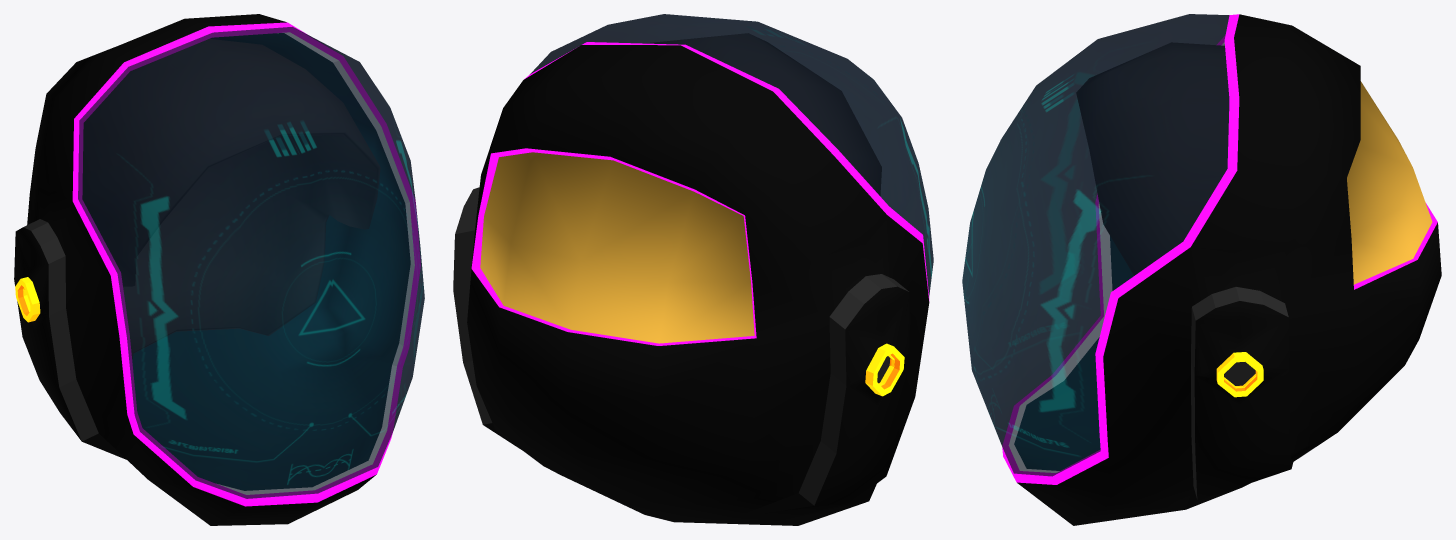
Rendered from M_Helmet_LedSuit.glb.
3 renders of one model, left to right at view 1: azimuth 30°, elevation 25°; view 2: azimuth 150°, elevation 25°; view 3: azimuth 270°, elevation 25°, orthographic. The views are drawn at different scales.
Visible parts, largest first — view 1: M_Helmet_LedSuit; view 2: M_Helmet_LedSuit; view 3: M_Helmet_LedSuit.
Part boxes in pixels (x1=…): M_Helmet_LedSuit: x1=14, y1=14, x2=424, y2=525; M_Helmet_LedSuit: x1=453, y1=14, x2=933, y2=525; M_Helmet_LedSuit: x1=962, y1=14, x2=1441, y2=525.
Bounding box in the file's own units: 0.3643 × 0.4159 × 0.3892.
2 materials, 2 textured.
